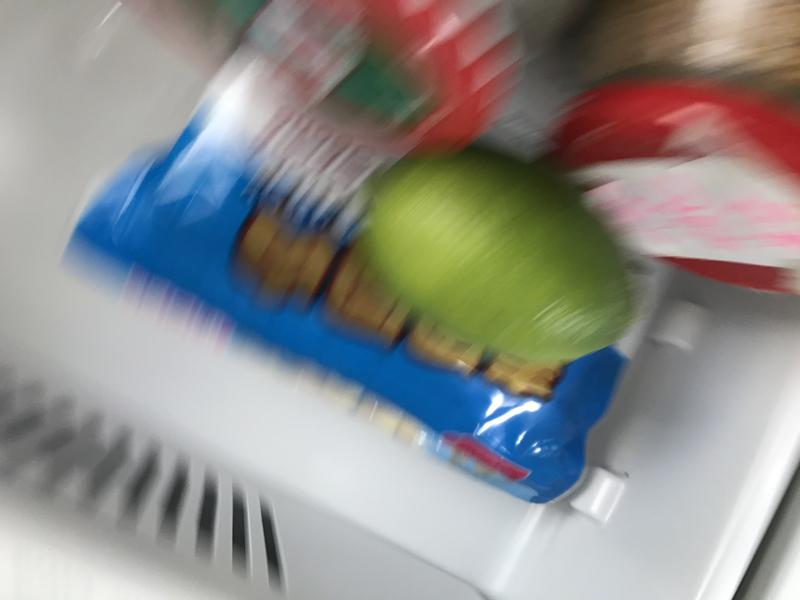lime: (347, 130, 647, 379)
